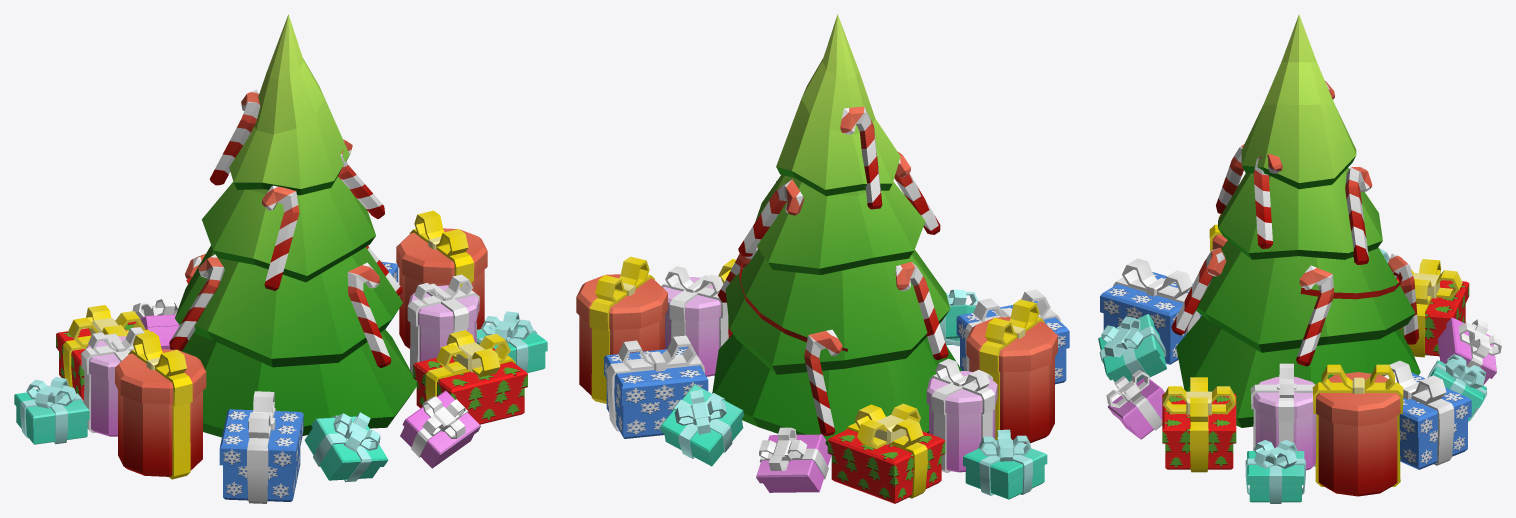
File: XMas-tree.glb
3 views of the same model, side by side, from view 1: azimuth 30°, elevation 25°; view 2: azimuth 150°, elevation 25°; view 3: azimuth 270°, elevation 25° (orthographic). The views are drawn at different scales.
Parts seen in each view (by area): view 1: Christmas_Tree_Christmas_Tree_0, Christmas_Present_01_Christmas_Tree_0, Christmas_Present_009_Christmas_Tree_0, Christmas_Present_04_Christmas_Tree_0, Christmas_Present_008_Christmas_Tree_0, Christmas_Present_02_Christmas_Tree_0, Christmas_Present_07_Christmas_Tree_0, Christmas_Present_06_Christmas_Tree_0.001, Christmas_Present_02_Christmas_Tree_0.001, Christmas_Present_05_Christmas_Tree_0, Christmas_Present_04_Christmas_Tree_0.001, Christmas_Present_06_Christmas_Tree_0 (+6 smaller); view 2: Christmas_Tree_Christmas_Tree_0, Christmas_Present_01_Christmas_Tree_0, Christmas_Present_04_Christmas_Tree_0.001, Christmas_Present_008_Christmas_Tree_0, Christmas_Present_009_Christmas_Tree_0.001, Christmas_Present_02_Christmas_Tree_0.001, Christmas_Present_02_Christmas_Tree_0, Christmas_Present_07_Christmas_Tree_0.001, Christmas_Present_06_Christmas_Tree_0.001, Christmas_Present_05_Christmas_Tree_0.001, Christmas_Present_009_Christmas_Tree_0, Christmas_Tree_Candy007_Christmas_Tree_0 (+5 smaller); view 3: Christmas_Tree_Christmas_Tree_0, Christmas_Present_008_Christmas_Tree_0, Christmas_Present_04_Christmas_Tree_0, Christmas_Present_009_Christmas_Tree_0.001, Christmas_Present_009_Christmas_Tree_0, Christmas_Present_02_Christmas_Tree_0, Christmas_Present_04_Christmas_Tree_0.001, Christmas_Present_07_Christmas_Tree_0, Christmas_Present_06_Christmas_Tree_0, Christmas_Present_05_Christmas_Tree_0, Christmas_Present_05_Christmas_Tree_0.001, Christmas_Tree_Candy006_Christmas_Tree_0 (+6 smaller).
Boxes of the visible parts, bbox=[...] form: Christmas_Tree_Christmas_Tree_0: bbox=[175, 14, 416, 437]; Christmas_Present_01_Christmas_Tree_0: bbox=[115, 331, 206, 479]; Christmas_Present_009_Christmas_Tree_0: bbox=[219, 391, 303, 503]; Christmas_Present_04_Christmas_Tree_0: bbox=[413, 330, 527, 424]; Christmas_Present_008_Christmas_Tree_0: bbox=[396, 210, 487, 348]; Christmas_Present_02_Christmas_Tree_0: bbox=[407, 274, 479, 381]; Christmas_Present_07_Christmas_Tree_0: bbox=[304, 412, 388, 482]; Christmas_Present_06_Christmas_Tree_0.001: bbox=[14, 377, 89, 444]; Christmas_Present_02_Christmas_Tree_0.001: bbox=[81, 327, 144, 436]; Christmas_Present_05_Christmas_Tree_0: bbox=[400, 390, 480, 468]; Christmas_Present_04_Christmas_Tree_0.001: bbox=[56, 305, 149, 402]; Christmas_Present_06_Christmas_Tree_0: bbox=[477, 311, 547, 372]; Christmas_Tree_Christmas_Tree_0: bbox=[712, 14, 961, 445]; Christmas_Present_01_Christmas_Tree_0: bbox=[966, 299, 1057, 443]; Christmas_Present_04_Christmas_Tree_0.001: bbox=[827, 403, 945, 503]; Christmas_Present_008_Christmas_Tree_0: bbox=[576, 256, 667, 403]; Christmas_Present_009_Christmas_Tree_0.001: bbox=[604, 335, 708, 438]; Christmas_Present_02_Christmas_Tree_0.001: bbox=[926, 358, 997, 473]; Christmas_Present_02_Christmas_Tree_0: bbox=[661, 266, 728, 376]; Christmas_Present_07_Christmas_Tree_0.001: bbox=[660, 384, 743, 466]; Christmas_Present_06_Christmas_Tree_0.001: bbox=[963, 429, 1047, 499]; Christmas_Present_05_Christmas_Tree_0.001: bbox=[756, 427, 831, 492]; Christmas_Present_009_Christmas_Tree_0: bbox=[956, 289, 1069, 384]; Christmas_Tree_Candy007_Christmas_Tree_0: bbox=[804, 329, 842, 435]; Christmas_Tree_Christmas_Tree_0: bbox=[1176, 14, 1420, 427]; Christmas_Present_008_Christmas_Tree_0: bbox=[1312, 364, 1403, 496]; Christmas_Present_04_Christmas_Tree_0: bbox=[1162, 377, 1236, 472]; Christmas_Present_009_Christmas_Tree_0.001: bbox=[1382, 360, 1471, 469]; Christmas_Present_009_Christmas_Tree_0: bbox=[1100, 258, 1201, 364]; Christmas_Present_02_Christmas_Tree_0: bbox=[1250, 363, 1316, 470]; Christmas_Present_04_Christmas_Tree_0.001: bbox=[1395, 259, 1469, 357]; Christmas_Present_07_Christmas_Tree_0: bbox=[1098, 314, 1166, 382]; Christmas_Present_06_Christmas_Tree_0: bbox=[1245, 440, 1305, 503]; Christmas_Present_05_Christmas_Tree_0: bbox=[1106, 370, 1164, 439]; Christmas_Present_05_Christmas_Tree_0.001: bbox=[1437, 317, 1501, 385]; Christmas_Tree_Candy006_Christmas_Tree_0: bbox=[1296, 265, 1334, 366].
Bounding box in the file's own units: 435 × 360 × 338.
Materials: 2 (2 with a texture image).
